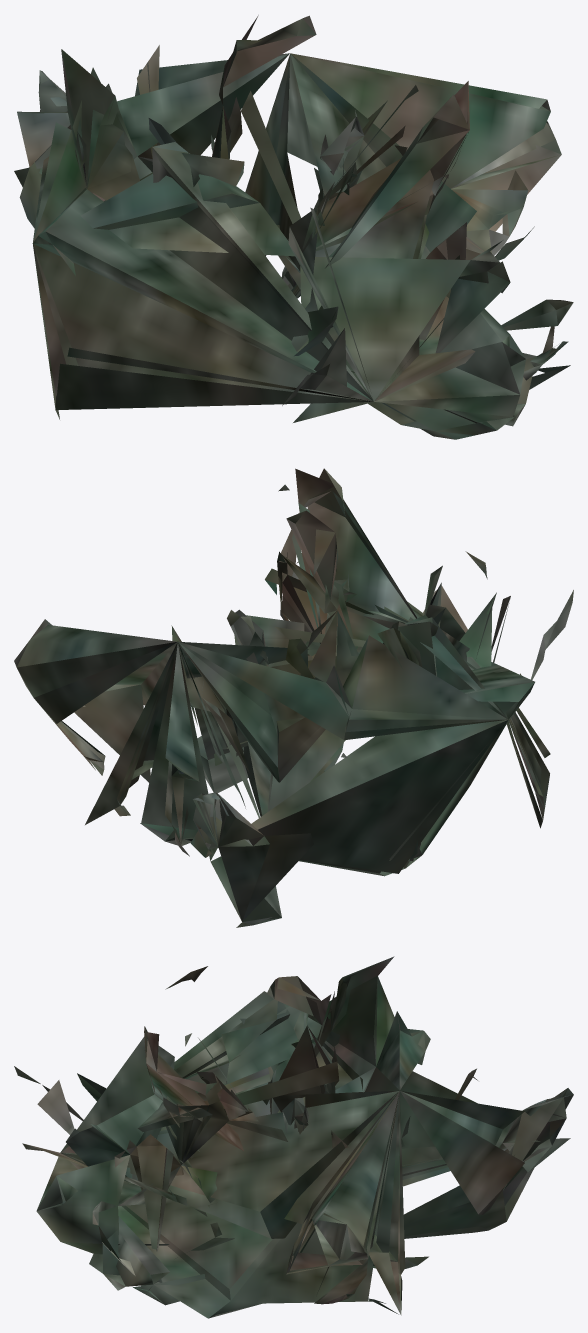
Rendered from crystal_cluster_584962985_lod0m.glb.
3 renders of one model, top to bottom at view 1: azimuth 30°, elevation 25°; view 2: azimuth 150°, elevation 25°; view 3: azimuth 270°, elevation 25°, orthographic. The views are drawn at different scales.
Bounding box in the file's own units: 2.25 × 1.44 × 2.56.
1 material, 1 textured.
